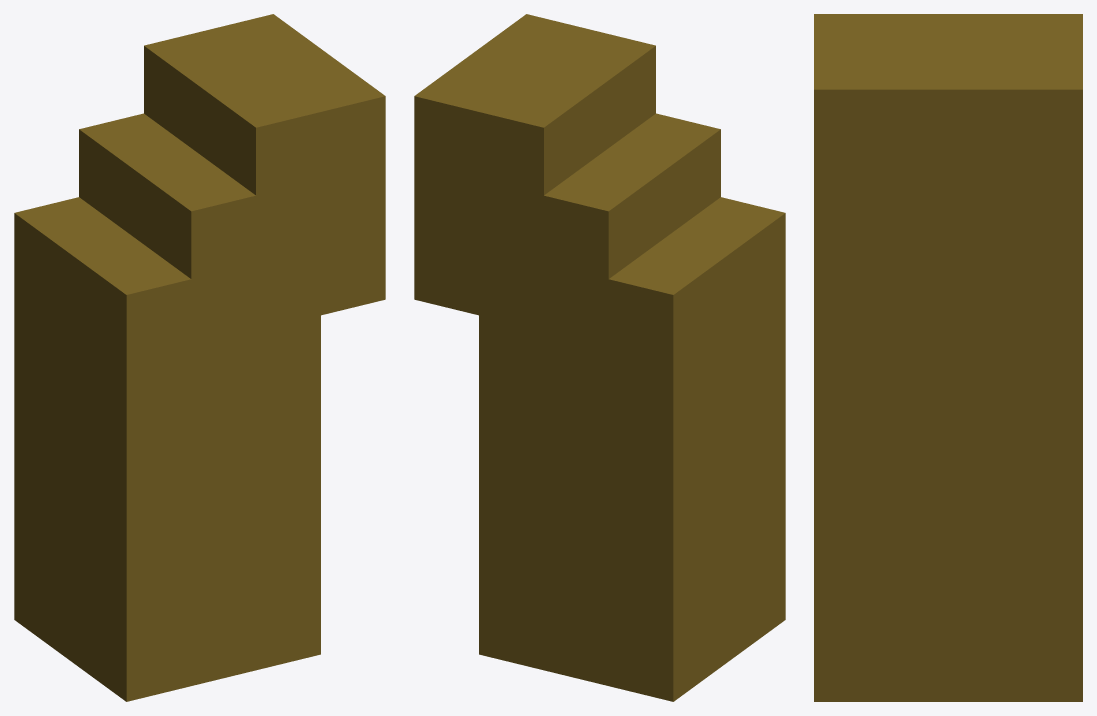
The model's file is Hand R.obj.
The picture shows the model from 3 angles, left to right: view 1: azimuth 30°, elevation 25°; view 2: azimuth 150°, elevation 25°; view 3: azimuth 270°, elevation 25°; orthographic projection. The views are drawn at different scales.
Size of the model in its own units: 0.4 by 0.8 by 0.3.
1 material, 1 textured.
